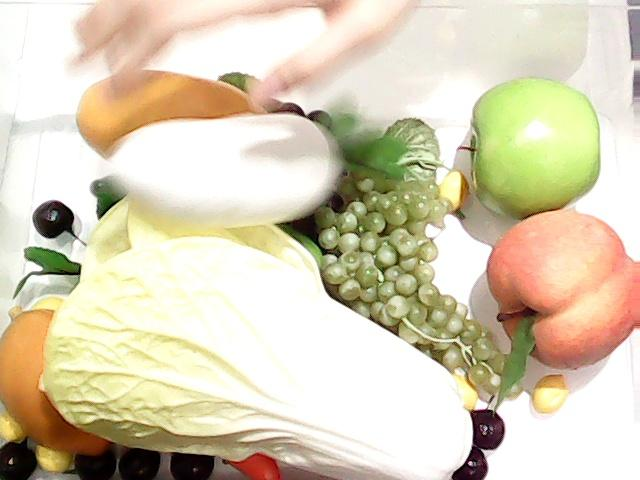apple: (451, 74, 603, 222)
carrot: (220, 447, 280, 477)
grape: (319, 168, 493, 362)
lemon: (0, 301, 124, 463)
mango: (76, 64, 304, 163)
napa cabbage: (43, 175, 464, 480)
peach: (484, 204, 640, 370)
pepper: (85, 162, 322, 298)
radish: (101, 101, 409, 235)
